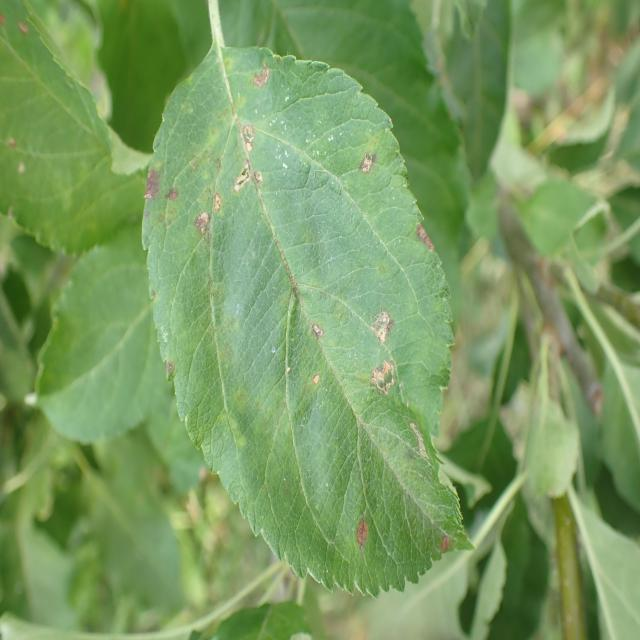frog-eye-leaf-spot: (140, 43, 475, 598)
